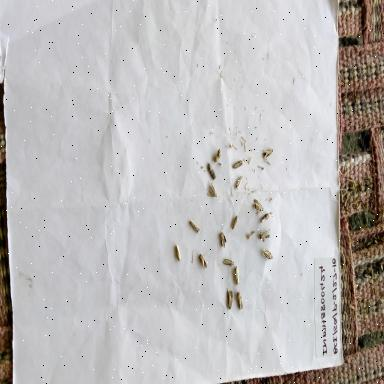pbw: (258, 221, 276, 243), (204, 180, 220, 204), (204, 160, 220, 184), (232, 290, 246, 314), (249, 194, 266, 213), (218, 251, 234, 271), (226, 213, 243, 230), (225, 285, 236, 311), (233, 170, 244, 194), (174, 243, 184, 269), (258, 210, 274, 224), (198, 252, 208, 274), (188, 217, 200, 235), (262, 246, 274, 264), (218, 229, 228, 249), (260, 146, 274, 160), (232, 264, 240, 288), (231, 157, 244, 171), (212, 146, 222, 164)
